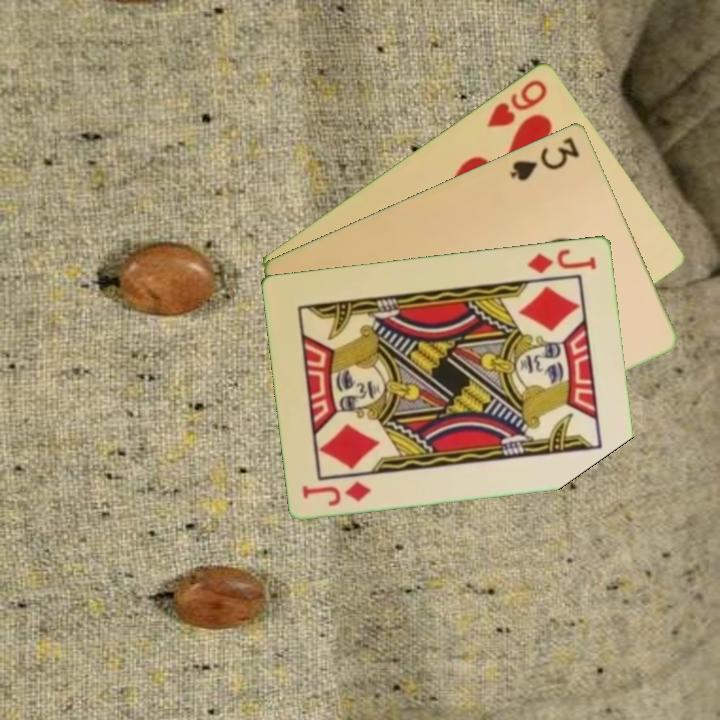3s: (507, 132, 583, 184)
9h: (483, 75, 551, 130)
Jd: (523, 245, 599, 277), (299, 477, 375, 509)
